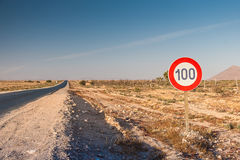Speed_limit_100km: (168, 57, 203, 91)
